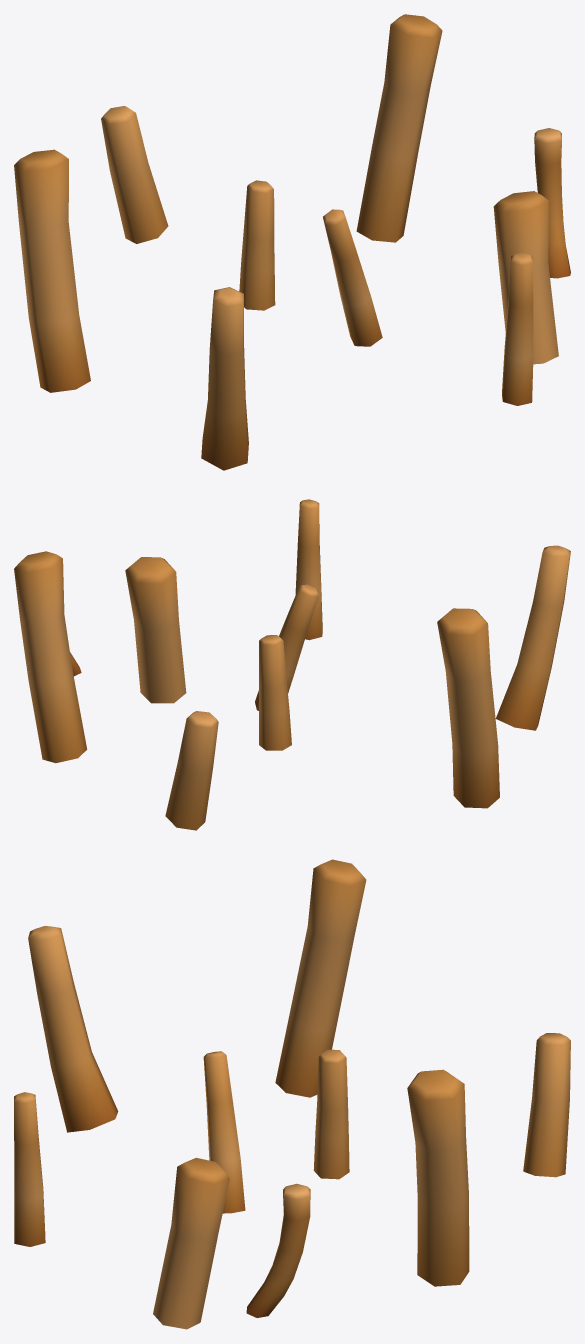
File: SM_Plant_EnokiMushroom_Dead.fbx
3 views of the same model, one above another, from view 1: azimuth 30°, elevation 25°; view 2: azimuth 150°, elevation 25°; view 3: azimuth 270°, elevation 25° (orthographic). The views are drawn at different scales.
Visible parts, largest first — view 1: SM_Plant_EnokiMushroom_Dead; view 2: SM_Plant_EnokiMushroom_Dead; view 3: SM_Plant_EnokiMushroom_Dead.
Part boxes in pixels (box(x1,y1,x2,y2)): SM_Plant_EnokiMushroom_Dead: box(14, 14, 570, 470); SM_Plant_EnokiMushroom_Dead: box(14, 499, 570, 830); SM_Plant_EnokiMushroom_Dead: box(14, 859, 570, 1329).
Bounding box in the file's own units: 39.89 × 18.21 × 36.37.
